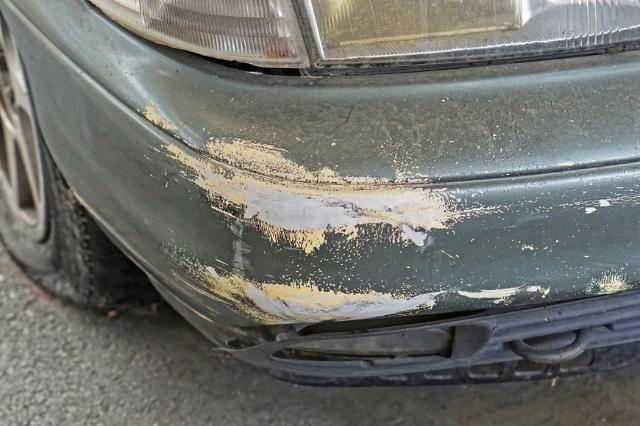Bumper: (120, 87, 636, 369)
